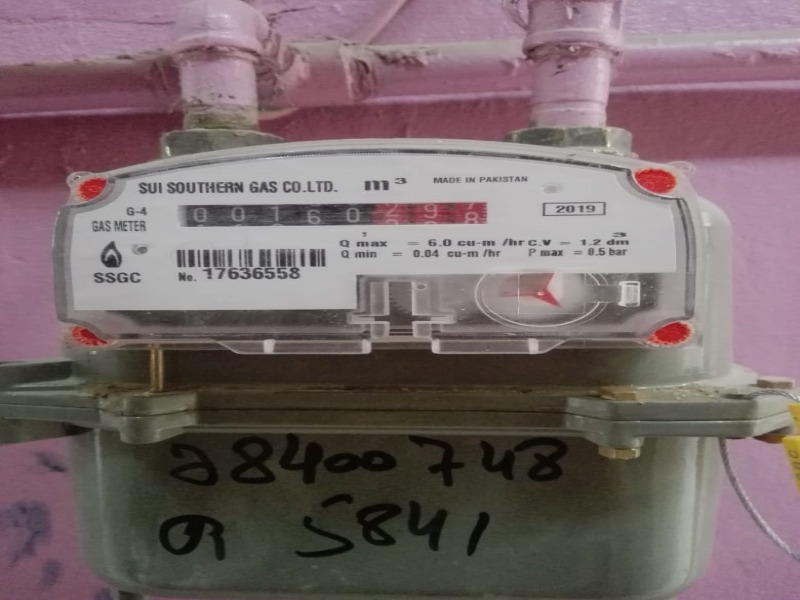ssgc: (173, 200, 488, 231)
